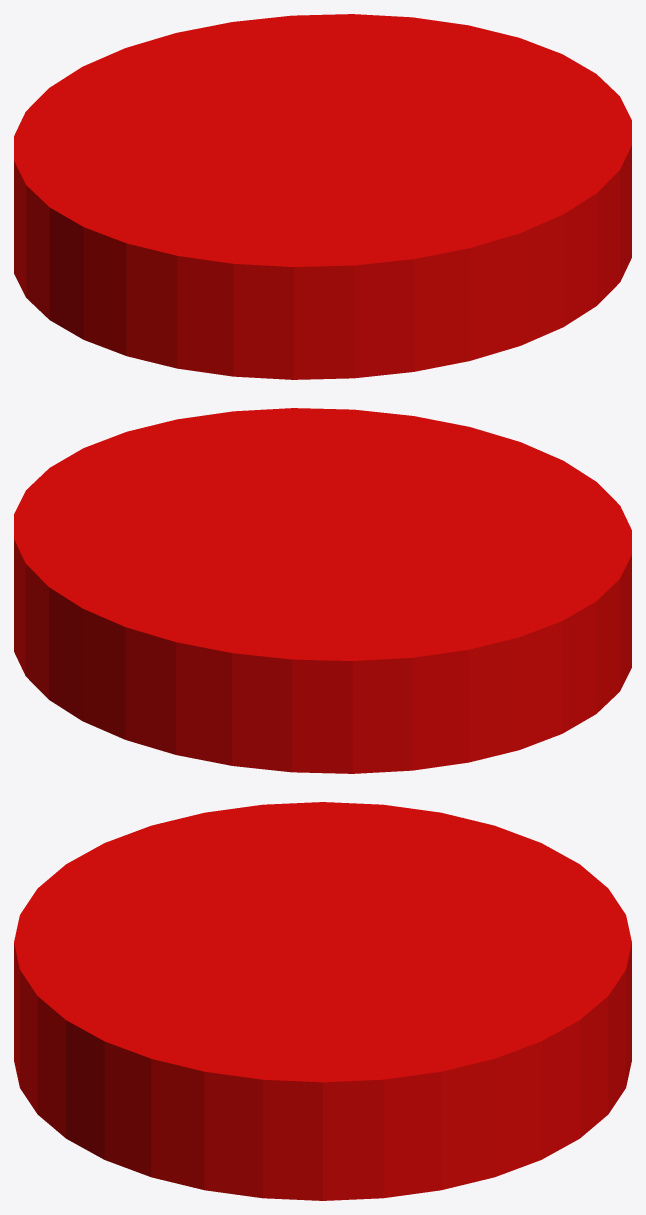
The model's file is Button.gltf.
3 renders of one model, top to bottom at view 1: azimuth 30°, elevation 25°; view 2: azimuth 150°, elevation 25°; view 3: azimuth 270°, elevation 25°, orthographic. The views are drawn at different scales.
Parts seen in each view (by area): view 1: Cilindro; view 2: Cilindro; view 3: Cilindro.
Boxes of the visible parts, left/top/right/bottom form: Cilindro: left=14, top=14, right=631, bottom=379; Cilindro: left=14, top=408, right=631, bottom=773; Cilindro: left=14, top=802, right=631, bottom=1200.
Bounding box in the file's own units: 0.142 × 0.028 × 0.1322.
